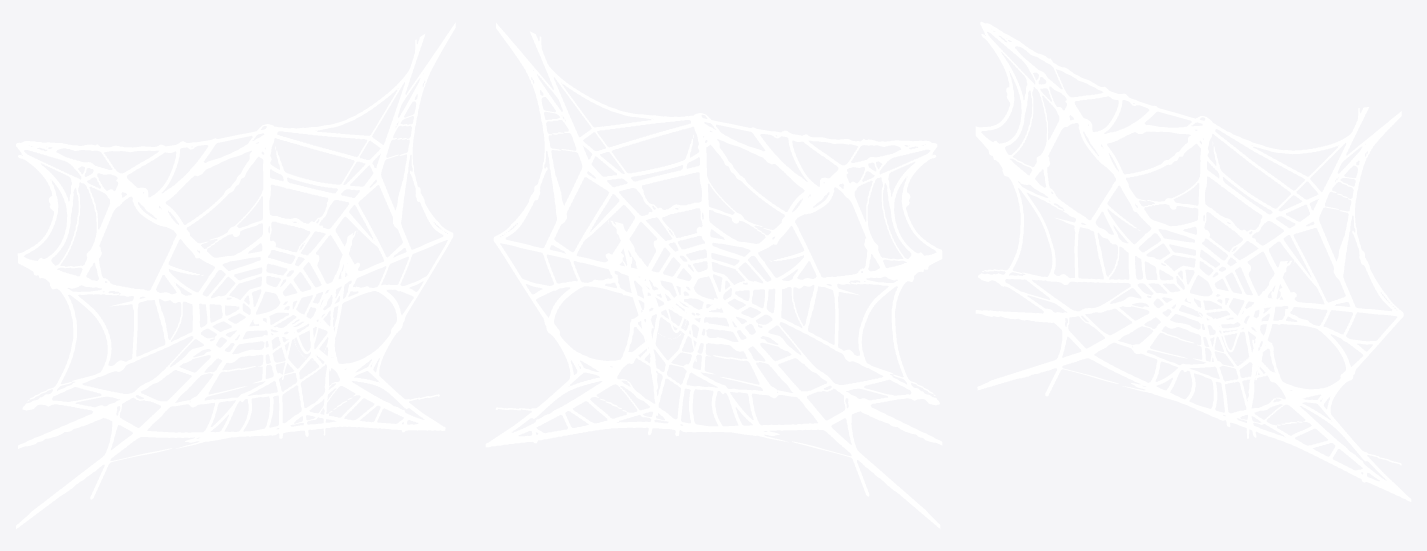
The picture shows the model from 3 angles, left to right: view 1: azimuth 30°, elevation 25°; view 2: azimuth 150°, elevation 25°; view 3: azimuth 330°, elevation 25°; orthographic projection. The views are drawn at different scales.
Visible parts, largest first — view 1: SM_Cob_Web_05_LOD0; view 2: SM_Cob_Web_05_LOD0; view 3: SM_Cob_Web_05_LOD0.
Part boxes in pixels (x1,y1,x2,y2): SM_Cob_Web_05_LOD0: [16, 22, 455, 528]; SM_Cob_Web_05_LOD0: [485, 23, 942, 528]; SM_Cob_Web_05_LOD0: [975, 21, 1411, 501].
Bounding box in the file's own units: 2 × 2 × 0.2211.
Materials: 1 (1 with a texture image).
